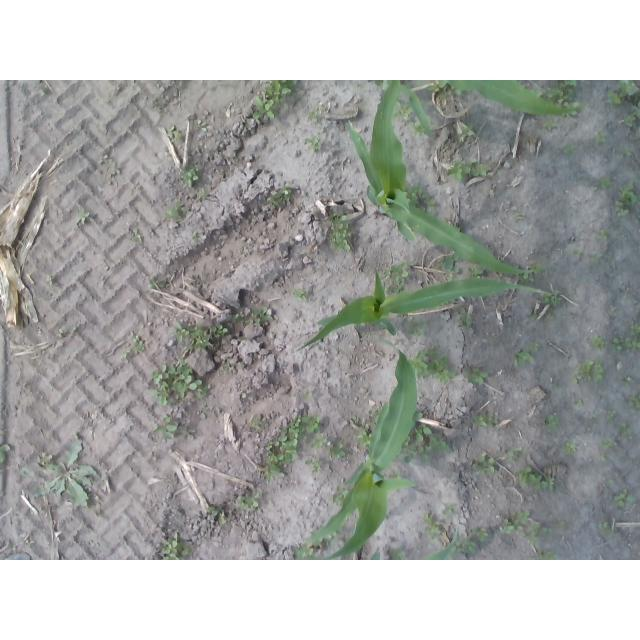Maize: (346, 82, 534, 275), (295, 339, 418, 560), (297, 270, 551, 353), (438, 80, 583, 116), (422, 528, 459, 560), (372, 547, 381, 560)
Weeds: (35, 440, 98, 509), (148, 356, 209, 407), (265, 416, 305, 481), (412, 348, 456, 383), (515, 509, 547, 544), (152, 416, 196, 441), (89, 156, 119, 188), (327, 213, 351, 251), (163, 533, 194, 559), (573, 360, 604, 386), (424, 514, 445, 545), (409, 185, 437, 208), (546, 81, 577, 100), (265, 81, 291, 103), (173, 323, 200, 343), (252, 96, 275, 118), (189, 330, 212, 351), (248, 307, 274, 325), (463, 367, 487, 386), (516, 468, 537, 489), (237, 493, 260, 512), (611, 338, 640, 353), (448, 163, 473, 180), (613, 489, 635, 508), (620, 182, 638, 205), (405, 445, 428, 463), (266, 189, 290, 206), (165, 202, 190, 218), (478, 452, 497, 472), (127, 331, 145, 351), (474, 413, 497, 428), (514, 348, 533, 366), (304, 456, 321, 476), (619, 80, 640, 96), (444, 255, 462, 273), (394, 101, 412, 119), (408, 317, 426, 335), (431, 434, 450, 450), (330, 443, 347, 460), (332, 486, 349, 503), (301, 416, 319, 432), (182, 169, 198, 187), (293, 543, 311, 559), (458, 307, 473, 325), (523, 264, 539, 280), (393, 263, 408, 280), (417, 425, 432, 442), (541, 415, 559, 429), (428, 80, 449, 92), (615, 202, 629, 219), (474, 163, 491, 177), (75, 208, 89, 224), (212, 325, 229, 338), (623, 111, 637, 126), (409, 121, 423, 136), (501, 518, 515, 533), (306, 138, 322, 151), (0, 444, 10, 464), (359, 428, 370, 446), (460, 125, 475, 138), (149, 277, 166, 288), (312, 437, 326, 450), (442, 502, 456, 515), (547, 292, 562, 304), (390, 549, 406, 560), (476, 528, 489, 541), (167, 125, 179, 139), (508, 449, 520, 463), (536, 475, 548, 489), (295, 288, 308, 300), (610, 94, 622, 107), (250, 419, 264, 430), (565, 102, 577, 114), (564, 442, 576, 454), (22, 468, 35, 479), (197, 407, 208, 420), (620, 425, 633, 436), (594, 334, 604, 348), (132, 228, 142, 242), (207, 506, 221, 516), (629, 395, 639, 409), (540, 552, 557, 560), (467, 540, 478, 552), (592, 253, 605, 263), (310, 109, 319, 123), (469, 268, 484, 276), (598, 180, 611, 189), (198, 121, 208, 132), (595, 131, 605, 142), (545, 119, 556, 129), (452, 541, 461, 553), (630, 324, 640, 334), (599, 522, 610, 531), (549, 477, 556, 491), (605, 410, 615, 419), (529, 343, 539, 352), (624, 147, 632, 158), (621, 375, 629, 385), (555, 522, 565, 530), (608, 308, 616, 317), (563, 143, 571, 152), (601, 442, 611, 449), (600, 230, 608, 238), (198, 192, 207, 199), (123, 348, 129, 358), (515, 214, 523, 221), (233, 314, 240, 322), (573, 249, 579, 254), (600, 454, 605, 460), (578, 401, 583, 406), (531, 314, 537, 318)
